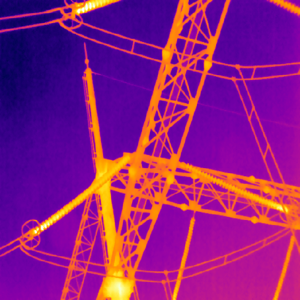insulator: (30, 148, 129, 235), (182, 160, 288, 214), (170, 216, 195, 300), (272, 235, 294, 300), (73, 0, 117, 15), (273, 0, 300, 16)
